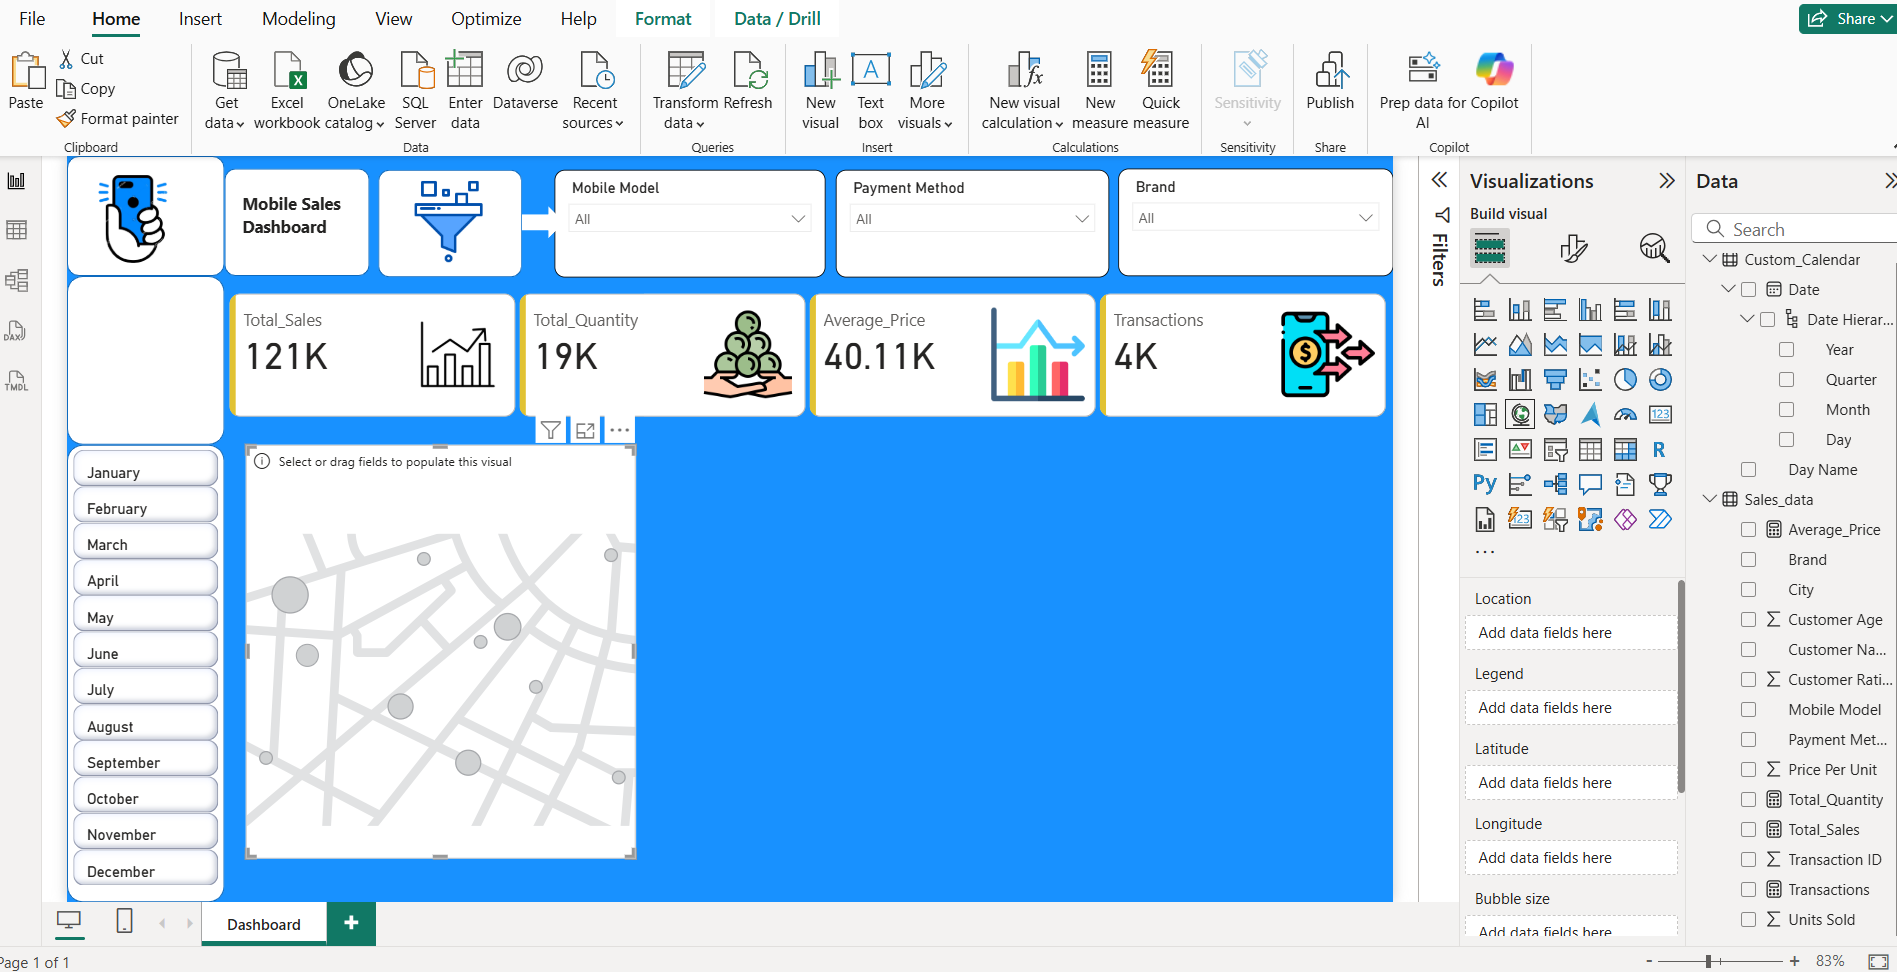

Layout of this report page (visuals, bound fields, positions):
{"tool":"powerbi","page":{"name":"Dashboard","canvas":[1280,720],"ordinal":0},"visuals":[{"type":"shape","box":[0,0,142.4,108.6],"z":0},{"type":"image","box":[0,0,127.9,127.9],"z":1000},{"type":"shape","box":[0,115.8,152,162.9],"z":2000},{"type":"shape","box":[0,278.7,152,441.6],"z":3000},{"type":"advancedSlicerVisual","fields":{"Values":["Custom_Calendar.Date.Variation.Date Hierarchy.Month"]},"box":[1.2,278.7,150.8,441.6],"z":4000},{"type":"cardVisual","fields":{"Data":["Sales_data.Total_Sales","Sales_data.Total_Quantity","Sales_data.Average_Price","Sales_data.Transactions"]},"box":[152,117,1128,107.4],"z":5000},{"type":"slicer","fields":{"Values":["Sales_data.Mobile Model"]},"box":[459.7,1.2,241.3,107.4],"z":6000},{"type":"slicer","fields":{"Values":["Sales_data.Payment Method"]},"box":[716.6,4.8,264.2,103.8],"z":7000},{"type":"slicer","fields":{"Values":["Sales_data.Brand"]},"box":[996.5,8.4,270.2,100.1],"z":8000},{"type":"shape","box":[300.4,0,138.7,108.6],"z":9000},{"type":"image","box":[278.7,8.4,182.2,90.5],"z":10000},{"type":"shape","box":[419.8,49.5,41,31.4],"z":11000},{"type":"shape","box":[152,0,139.9,108.6],"z":12000},{"type":"textbox","box":[164.1,30.2,117,68.8],"z":13000},{"type":"map","fields":{"Category":["Sales_data.City"],"Size":["Sales_data.Total_Sales"]},"box":[164.1,224.4,255.8,250.9],"z":14000},{"type":"lineChart","fields":{"Category":["Custom_Calendar.Date.Variation.Date Hierarchy.Month"],"Y":["Sales_data.Total_Quantity"]},"box":[438.8,225,827.5,150],"z":15000},{"type":"funnel","title":" Ratings by Rating status","fields":{"Y":["Sum(Sales_data.Customer Ratings)"],"Category":["Sales_data.Rating status"]},"box":[440.4,388.5,381.2,126.7],"z":16000},{"type":"pieChart","title":" Transaction ID by Payment Method","fields":{"Y":["CountNonNull(Sales_data.Transaction ID)"],"Category":["Sales_data.Payment Method"]},"box":[834.9,389.7,431.9,126.7],"z":17000},{"type":"clusteredBarChart","fields":{"Y":["Sales_data.Total_Sales"],"Category":["Sales_data.Mobile Model"]},"box":[440.4,532,381.2,174.9],"z":18000},{"type":"areaChart","fields":{"Category":["Sales_data.Mobile Model","Custom_Calendar.Day Name"],"Y":["Sales_data.Total_Sales"]},"box":[834.9,532,431.9,170.1],"z":19000},{"type":"tableEx","fields":{"Values":["Sales_data.Brand","Sales_data.Total_Sales","Sales_data.Transactions"]},"box":[164.1,485,255.8,235.3],"z":20000},{"type":"pageNavigator","box":[6,142.4,136.3,119.4],"z":21000}]}

Visuals, with their boxes on the page's 1280x720 design canvas (x1, y1, x2, y2). These are canvas units, not pixel positions in the 1897x972 screenshot, which may show the page scaled, cropped or inside an application window:
shape: crop(0, 0, 142, 109)
image: crop(0, 0, 128, 128)
shape: crop(0, 116, 152, 279)
shape: crop(0, 279, 152, 720)
advancedSlicerVisual - Custom_Calendar.Date.Variation.Date Hierarchy.Month: crop(1, 279, 152, 720)
cardVisual - Sales_data.Total_Sales x Sales_data.Total_Quantity: crop(152, 117, 1280, 224)
slicer - Sales_data.Mobile Model: crop(460, 1, 701, 109)
slicer - Sales_data.Payment Method: crop(717, 5, 981, 109)
slicer - Sales_data.Brand: crop(996, 8, 1267, 108)
shape: crop(300, 0, 439, 109)
image: crop(279, 8, 461, 99)
shape: crop(420, 50, 461, 81)
shape: crop(152, 0, 292, 109)
textbox: crop(164, 30, 281, 99)
map - Sales_data.City x Sales_data.Total_Sales: crop(164, 224, 420, 475)
lineChart - Custom_Calendar.Date.Variation.Date Hierarchy.Month x Sales_data.Total_Quantity: crop(439, 225, 1266, 375)
" Ratings by Rating status" funnel: crop(440, 388, 822, 515)
" Transaction ID by Payment Method" pieChart: crop(835, 390, 1267, 516)
clusteredBarChart - Sales_data.Total_Sales x Sales_data.Mobile Model: crop(440, 532, 822, 707)
areaChart - Sales_data.Mobile Model x Custom_Calendar.Day Name: crop(835, 532, 1267, 702)
tableEx - Sales_data.Brand x Sales_data.Total_Sales: crop(164, 485, 420, 720)
pageNavigator: crop(6, 142, 142, 262)
